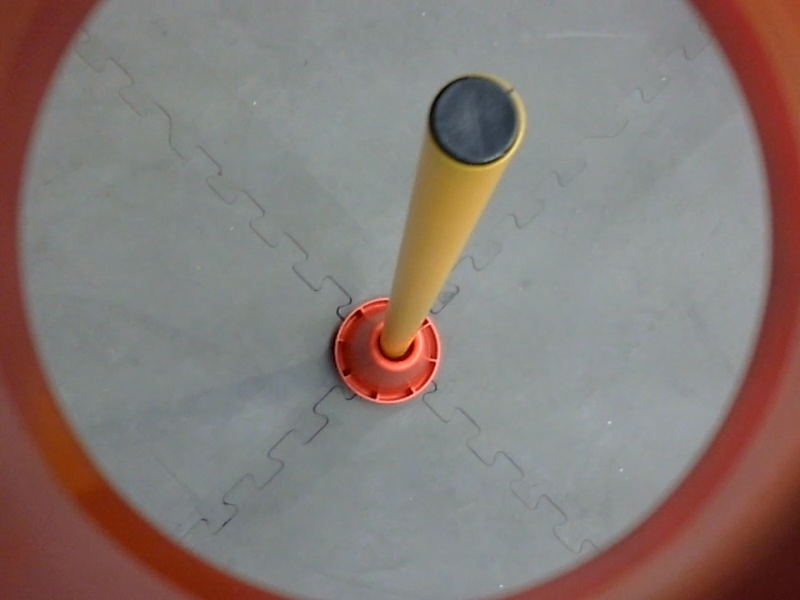tip: (416, 61, 533, 184)
